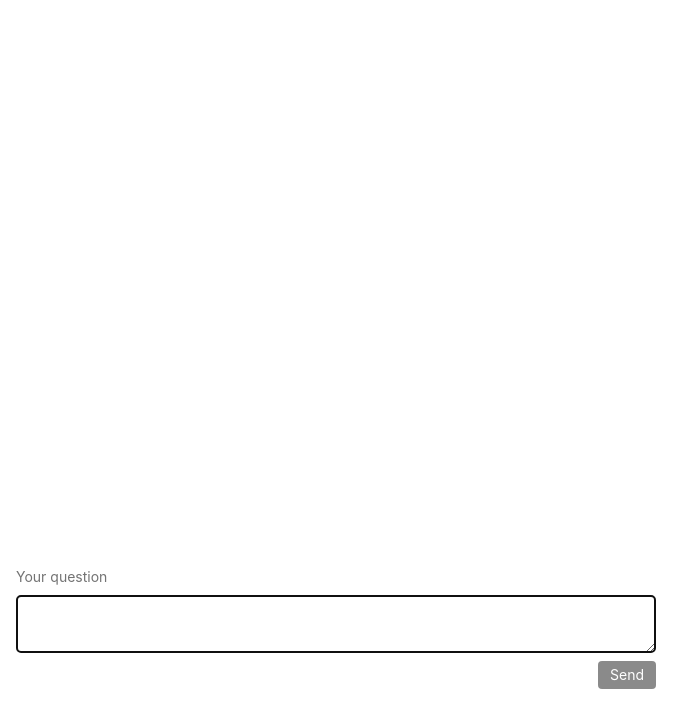
Chat (jsdom) › citations › shows title and excerpt in a labelled Sources list
Type "q" into the text box labelled "Your question". click: {"x": 336, "y": 624}
box: [16,595,656,653]
Then press Enter
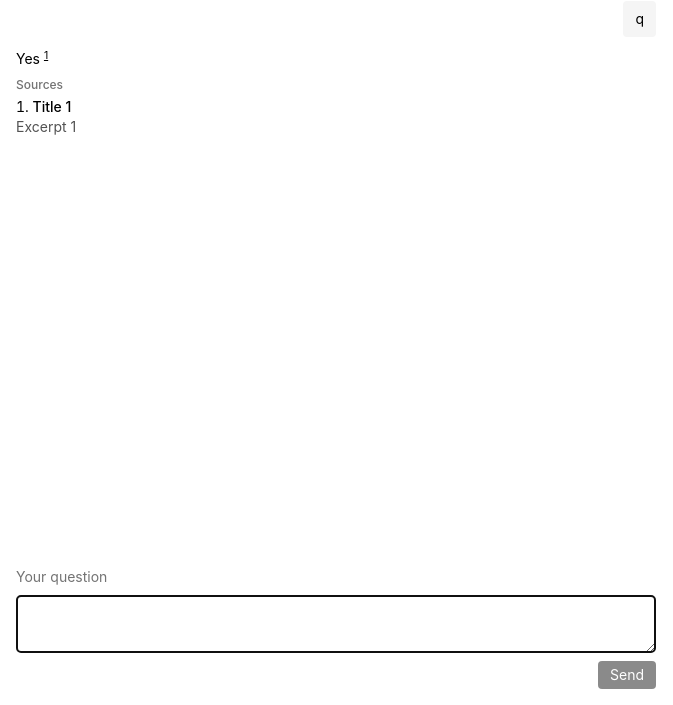
Now the list named "Sources" shows "Title 1", box [33,98,71,115]
Now the list named "Sources" shows "Excerpt 1", box [16,118,76,135]
